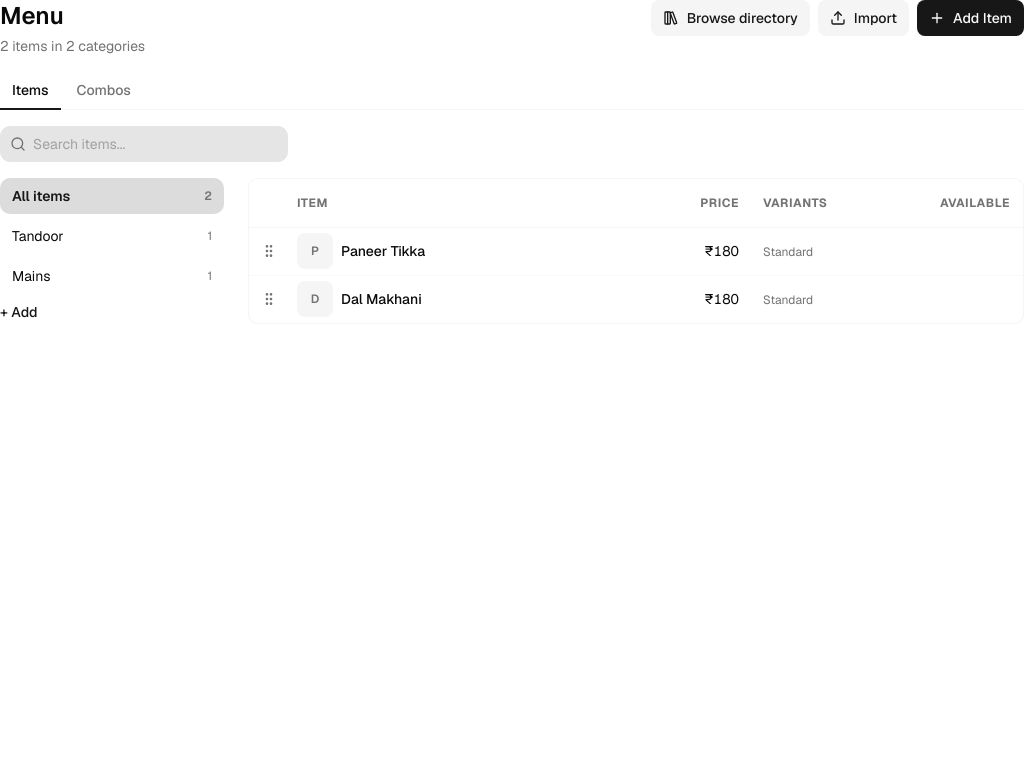
Test: MenuManagement list › opens Import as a dialog over the menu instead of navigating away (issue #239)
Expected: the table with test id "menu-table" is shown, [249,179,1023,323]
What coordinates should you click on to do the following:
click the button with test id "menu-import-link"
I would click on:
 (863, 18)
Its box is [818,0,909,36].
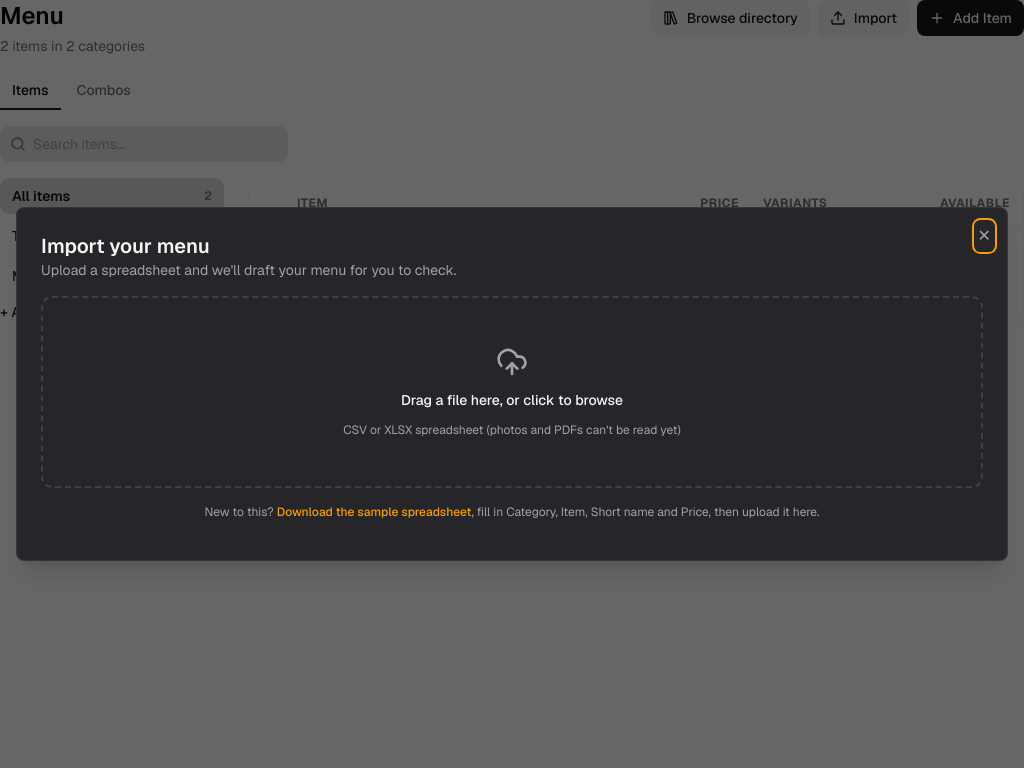
Expected: the button with test id "menu-import-dropzone" is shown, [41,296,983,488]
Expected: the link with test id "menu-import-template-link" is shown, [277,504,472,520]
What coordinates should you click on to do the following:
click the button with test id "menu-import-dialog-close"
I would click on:
 (984, 236)
Its box is [974,220,995,252].
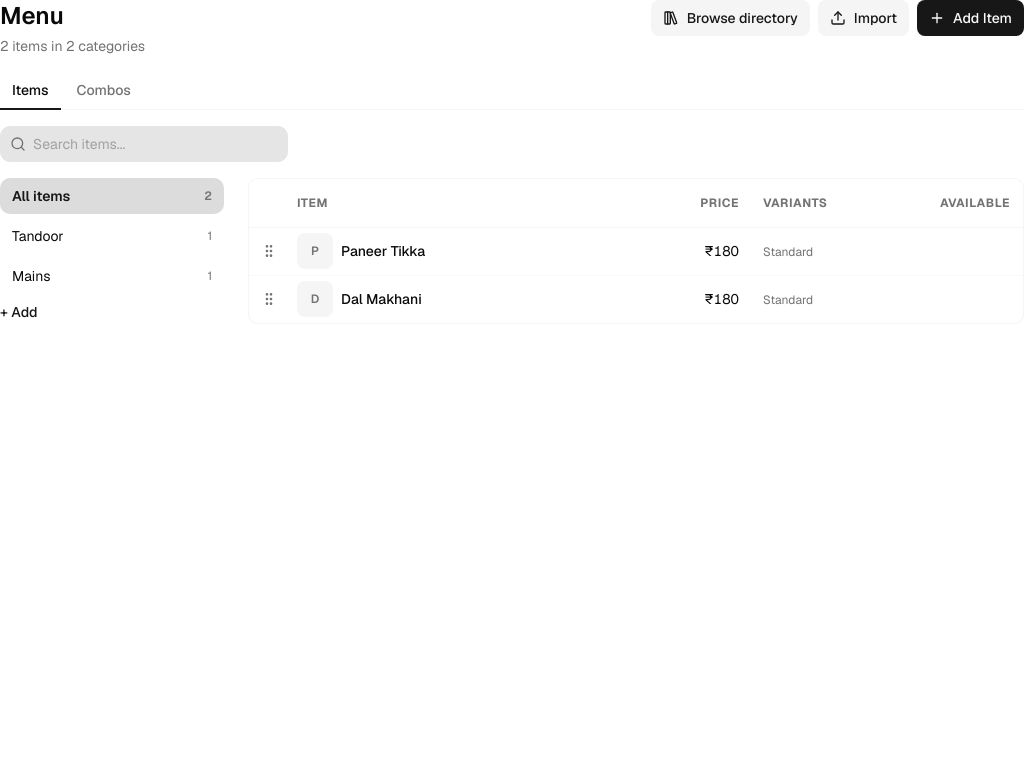
Expected: the table with test id "menu-table" is shown, [249,179,1023,323]
Expected: the dialog with test id "menu-import-dialog" is gone
